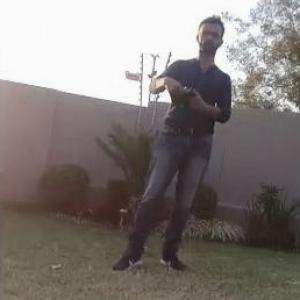follow: (106, 5, 236, 276)
